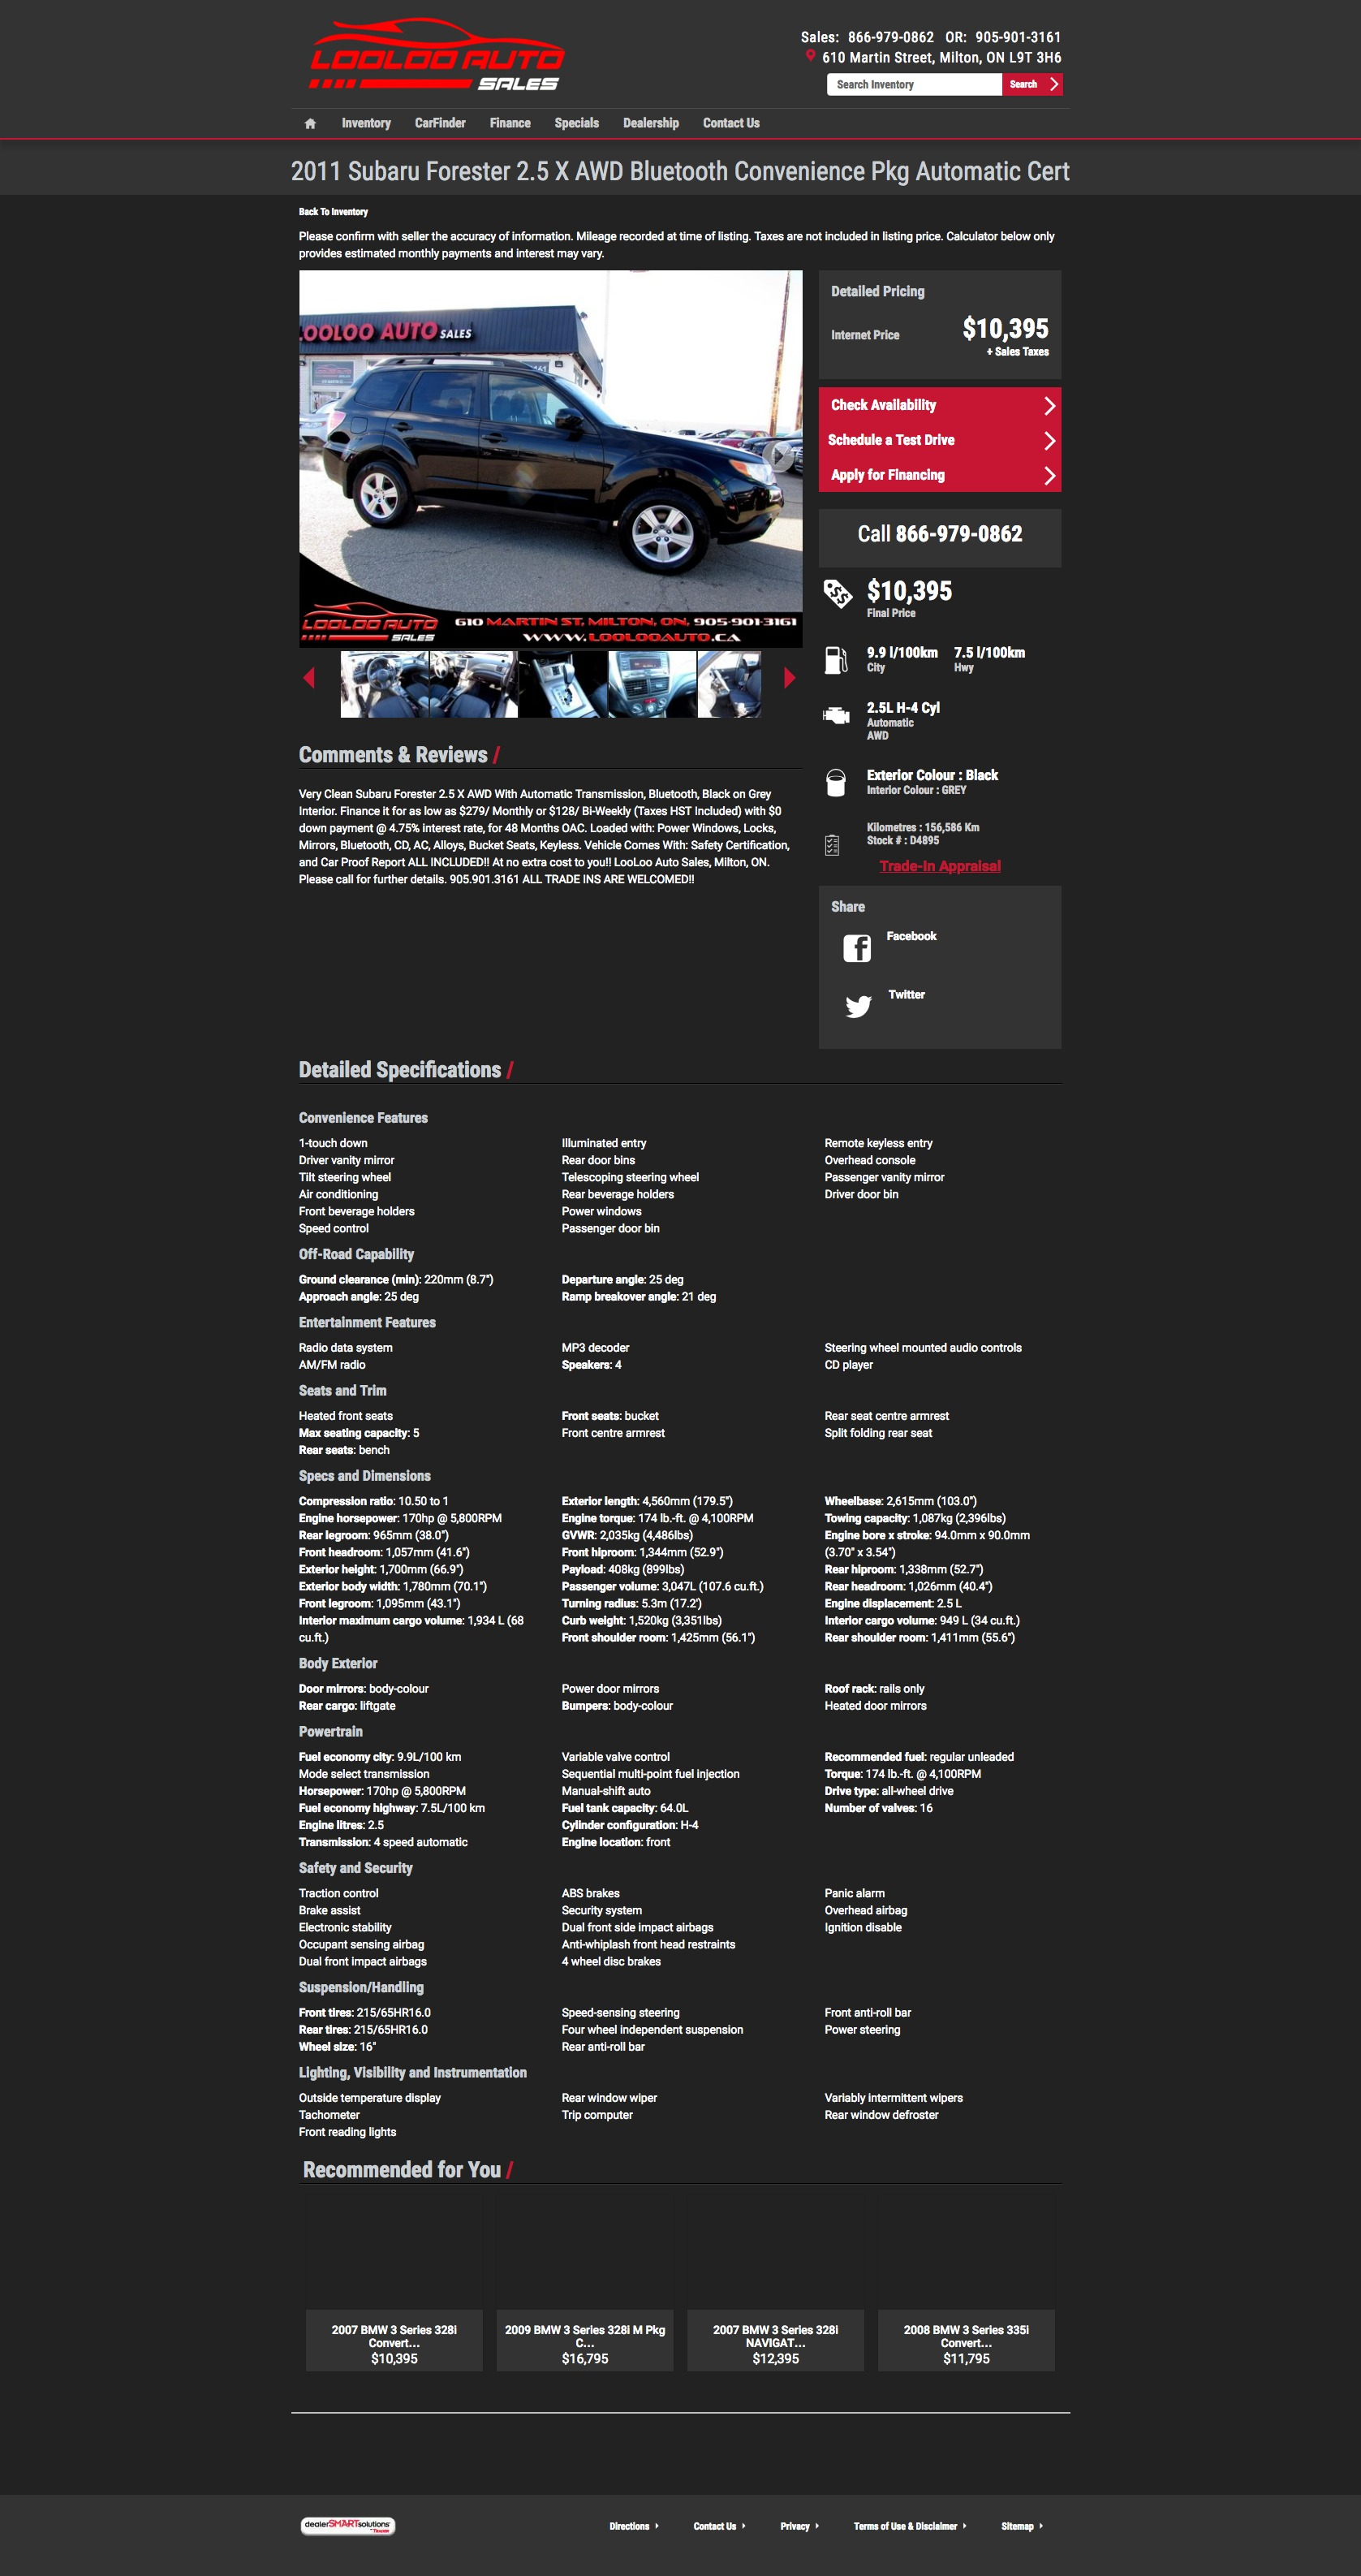car: (782, 666, 797, 690)
